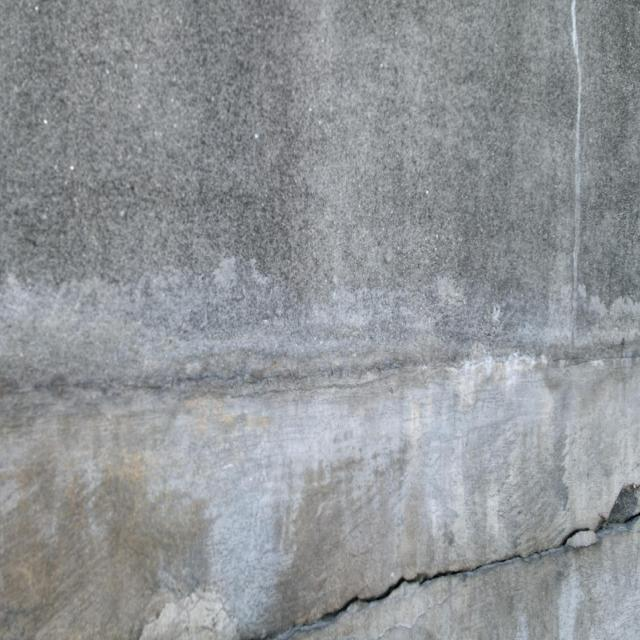SurfaceCrack: (315, 564, 444, 633), (474, 510, 575, 584), (602, 479, 640, 553)
